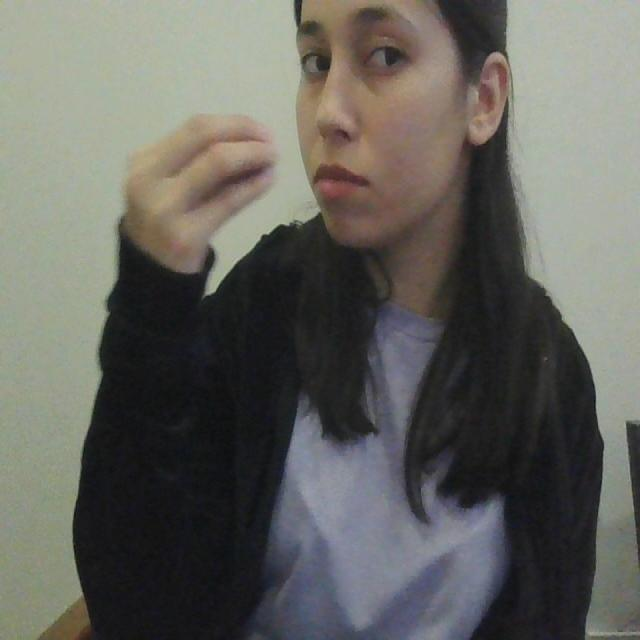Yemek: (118, 108, 339, 230)
